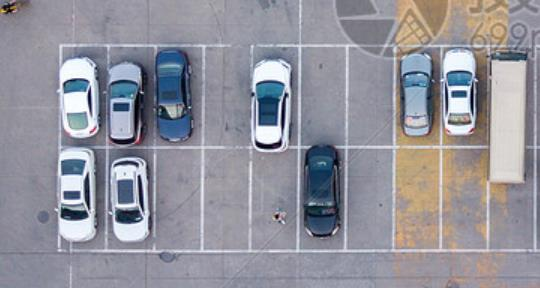car: (482, 49, 529, 187), (247, 55, 295, 154), (151, 45, 198, 146), (52, 147, 98, 243), (301, 144, 344, 239), (107, 156, 153, 243), (102, 61, 148, 147), (436, 47, 479, 137), (57, 55, 102, 139), (395, 49, 435, 137)
